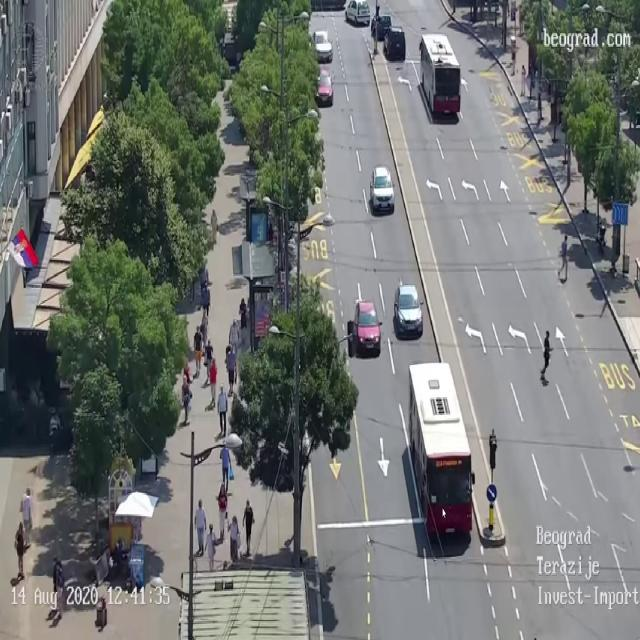bus: (407, 361, 474, 538), (419, 32, 461, 116)
car: (393, 283, 423, 340), (352, 299, 382, 355), (370, 166, 394, 214), (346, 0, 370, 27), (388, 26, 404, 66), (319, 72, 334, 106), (374, 13, 392, 37), (316, 28, 328, 57)
